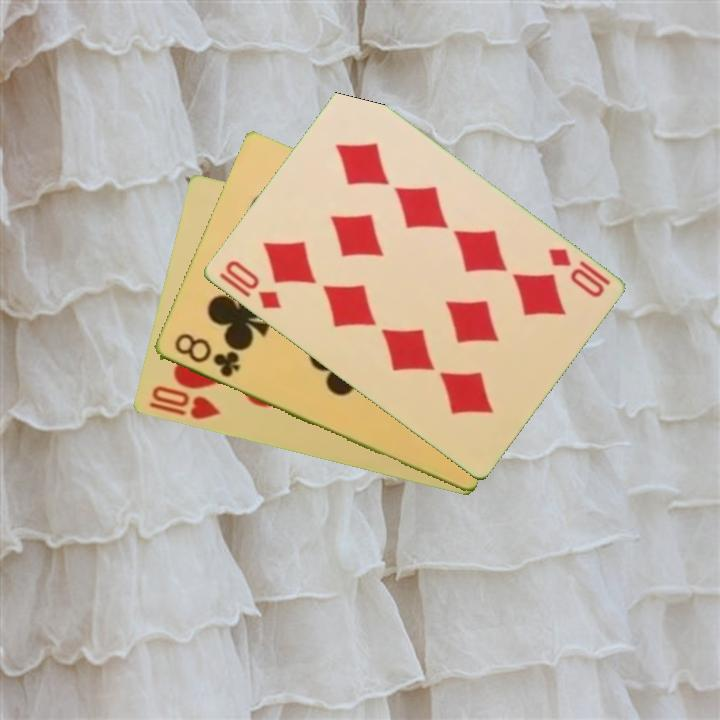10d: (543, 244, 613, 301), (221, 256, 284, 313)
10h: (144, 382, 223, 423)
8c: (170, 330, 243, 381)
